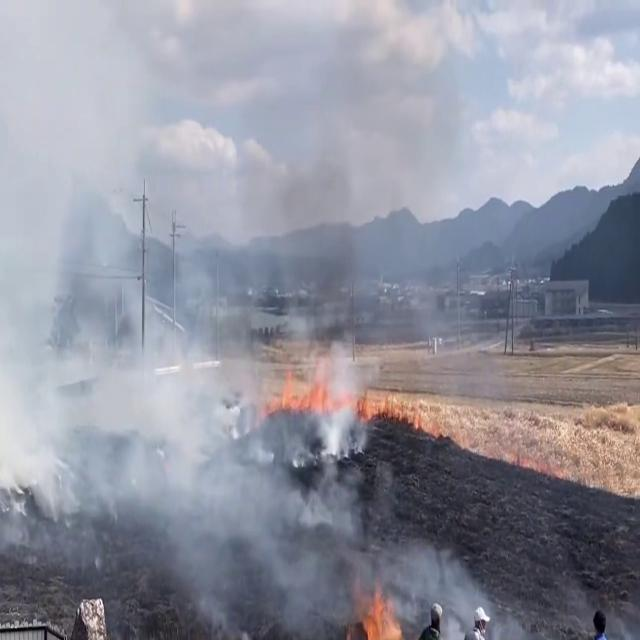Fire: (262, 363, 322, 428), (356, 574, 407, 640)
Smoke: (2, 120, 466, 638)
